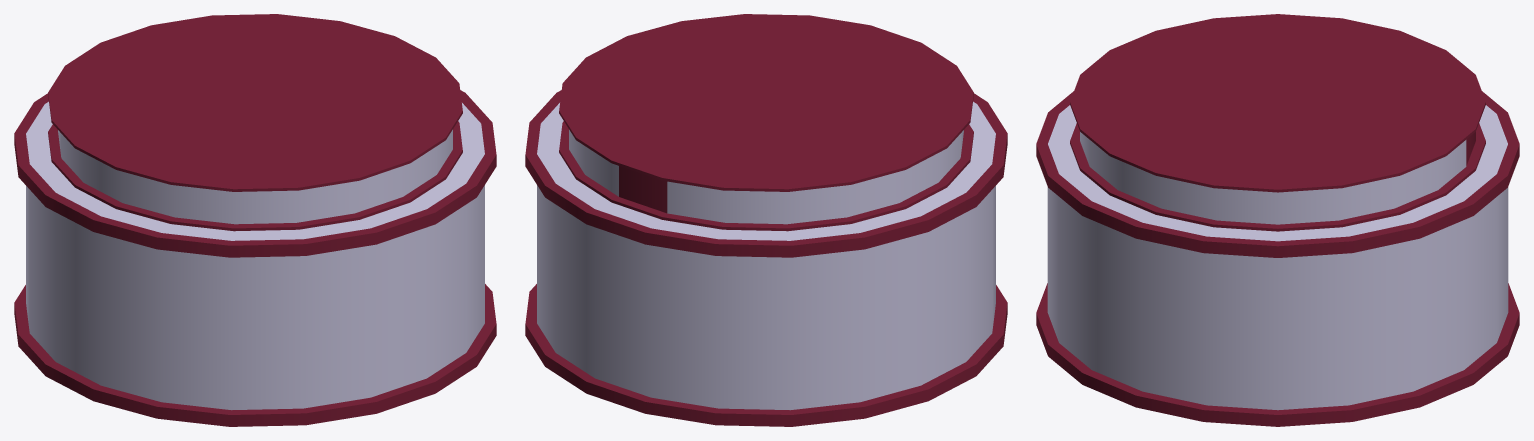
Rendered from pedastol.fbx.
3 views of the same model, side by side, from view 1: azimuth 30°, elevation 25°; view 2: azimuth 150°, elevation 25°; view 3: azimuth 270°, elevation 25° (orthographic).
Visible parts, largest first — view 1: pedastol_body1, pedastol_body2; view 2: pedastol_body1, pedastol_body2; view 3: pedastol_body1, pedastol_body2.
Part boxes in pixels (bbox=[...]): pedastol_body1: bbox=[14, 90, 496, 426]; pedastol_body2: bbox=[48, 14, 462, 231]; pedastol_body1: bbox=[525, 90, 1007, 426]; pedastol_body2: bbox=[559, 14, 973, 231]; pedastol_body1: bbox=[1036, 91, 1519, 426]; pedastol_body2: bbox=[1070, 14, 1485, 231].
Size of the model in its own units: 25.92 by 13.18 by 25.92.
